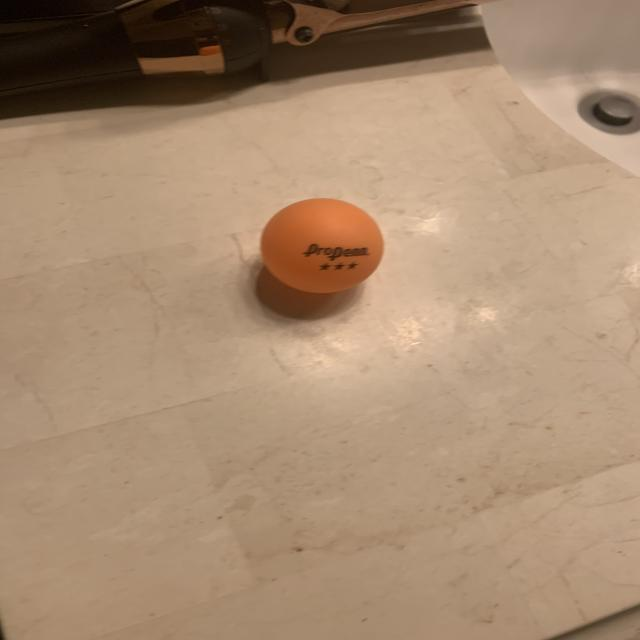ping-pong-ball: (252, 188, 389, 300)
